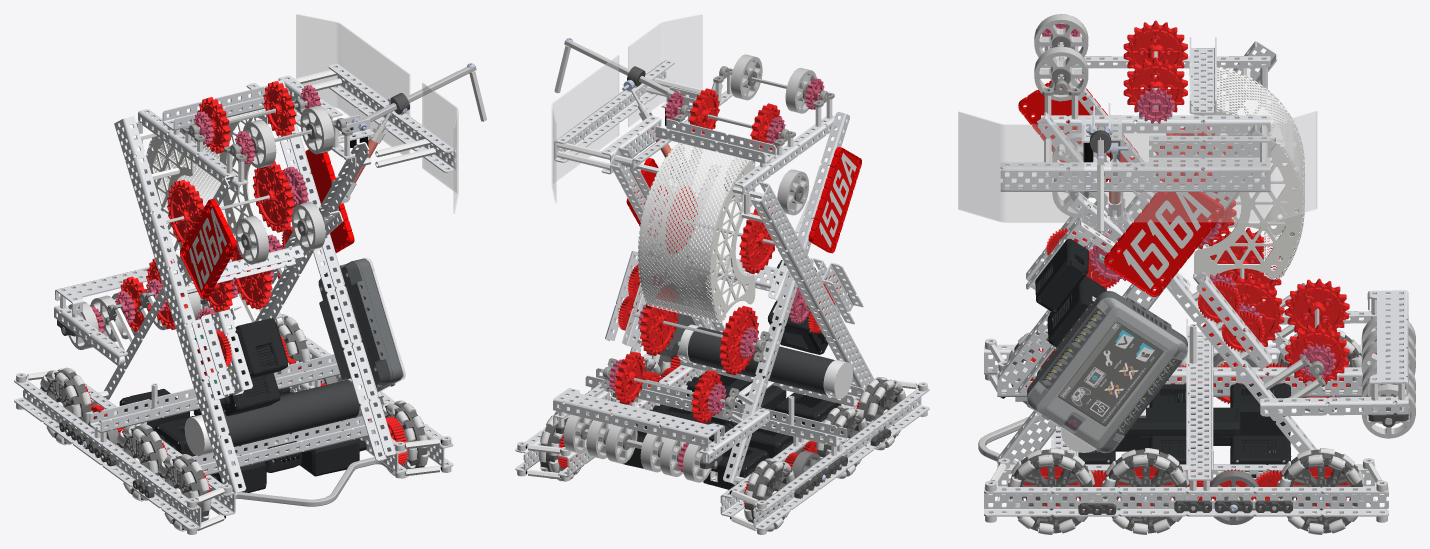
File: pushback.glb
3 renders of one model, left to right at view 1: azimuth 30°, elevation 25°; view 2: azimuth 150°, elevation 25°; view 3: azimuth 270°, elevation 25°, orthographic. The views are drawn at different scales.
Parts seen in each view (by area): view 1: WEB Body1; view 2: WEB Body1; view 3: WEB Body1.
Boxes of the visible parts, x1=… form: WEB Body1: x1=14, y1=14, x2=486, y2=534; WEB Body1: x1=515, y1=14, x2=929, y2=534; WEB Body1: x1=958, y1=14, x2=1415, y2=534.
Bounding box in the file's own units: 0.4325 × 0.4542 × 0.4308.
73 materials, 2 textured.
